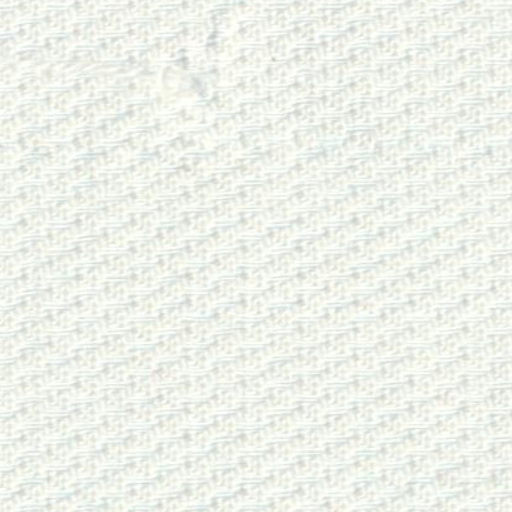DuanSha: (140, 12, 242, 130)
